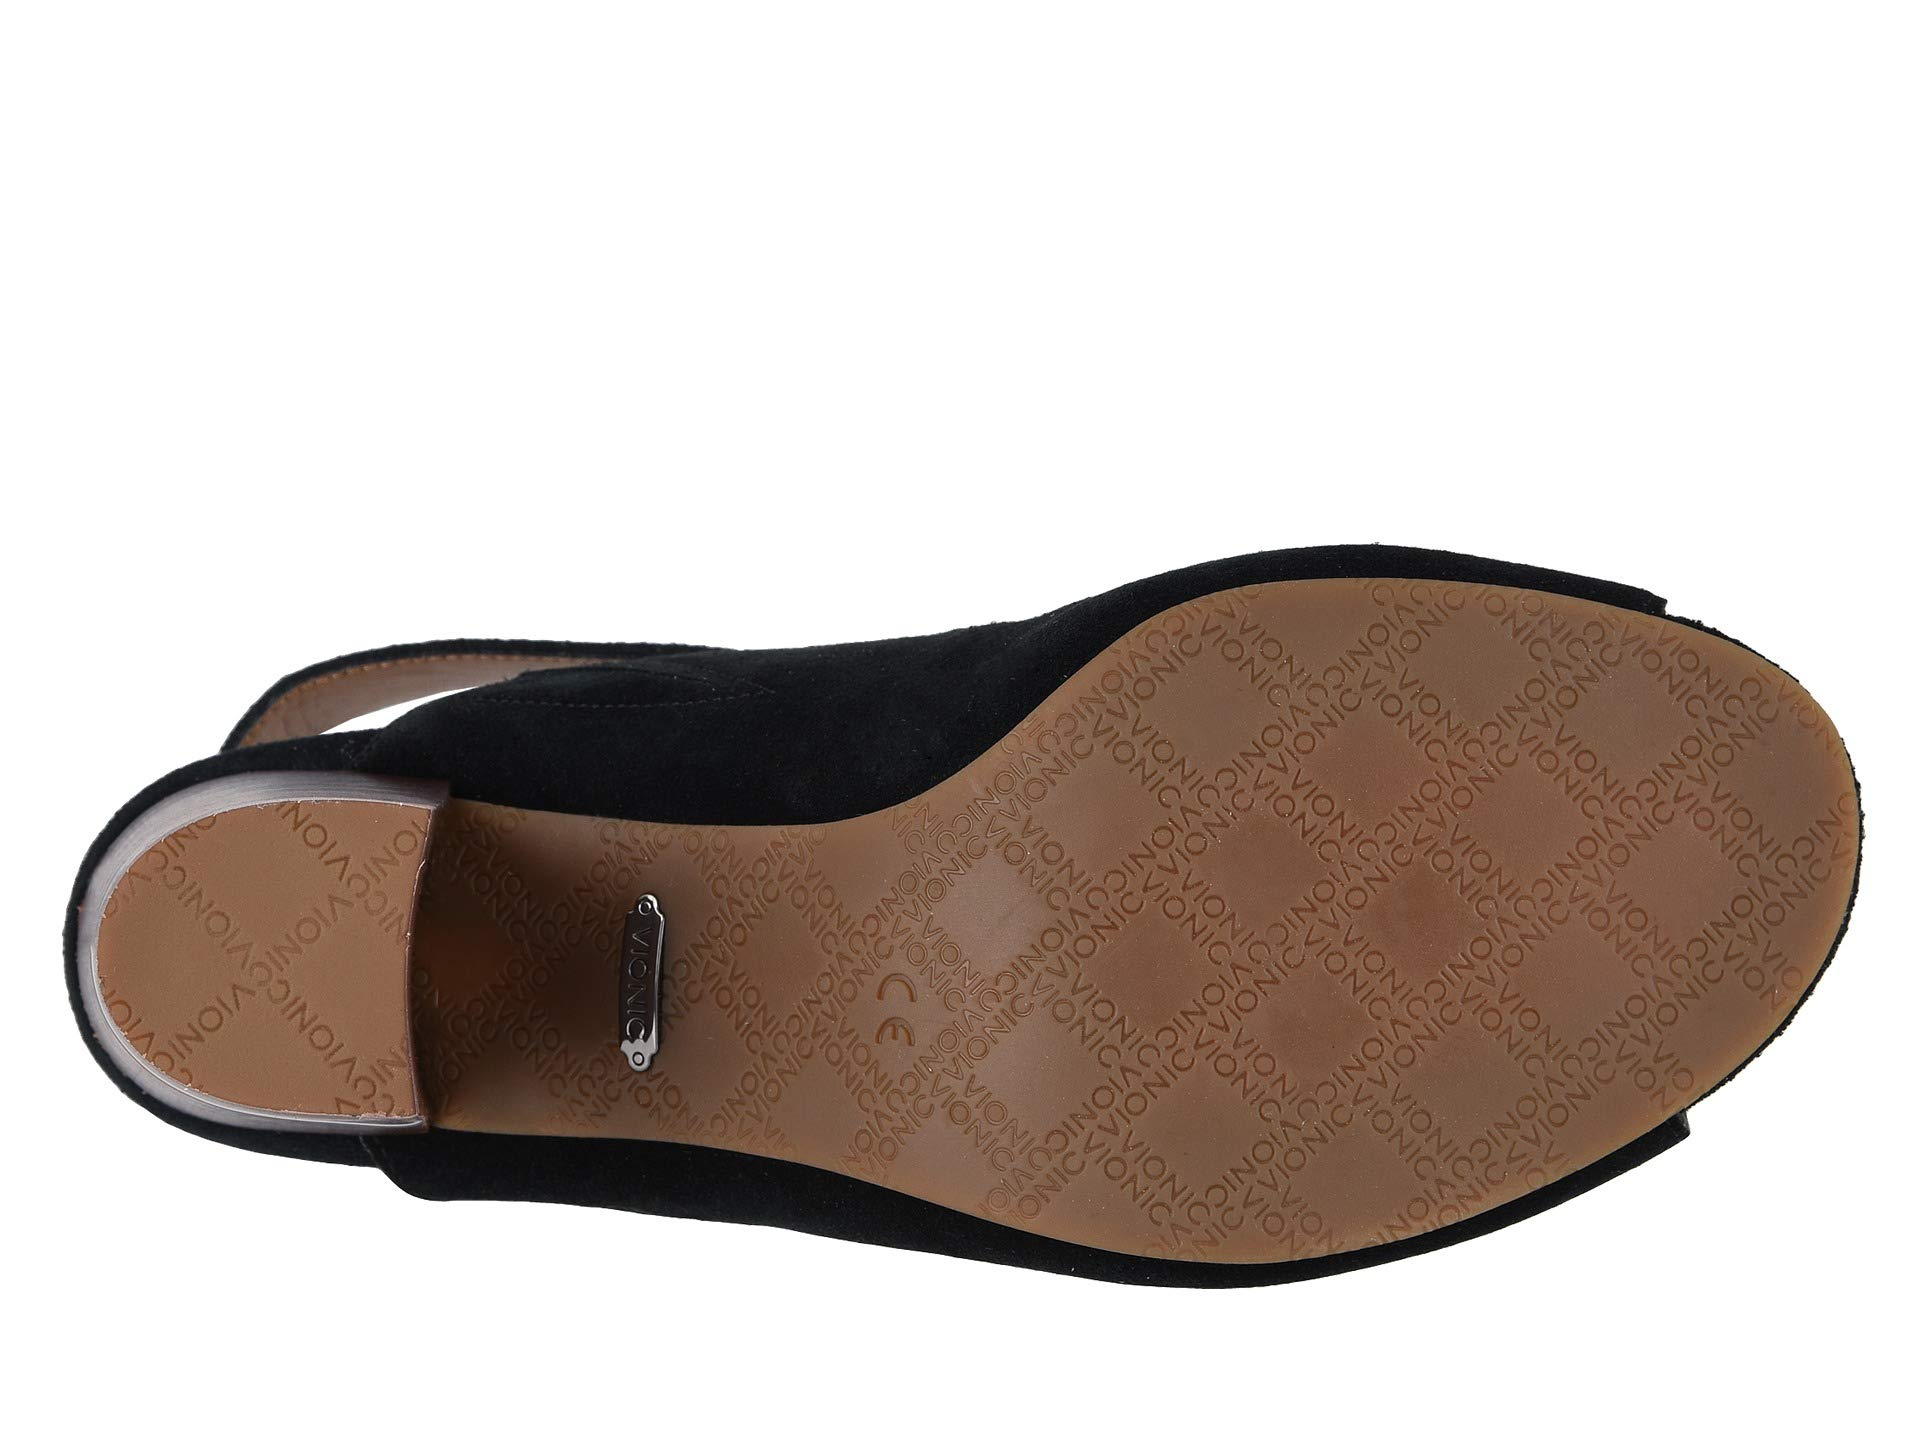circle: (1079, 702, 1559, 1190)
quad: (1079, 702, 1559, 1190)
text: (1079, 702, 1559, 1190)
